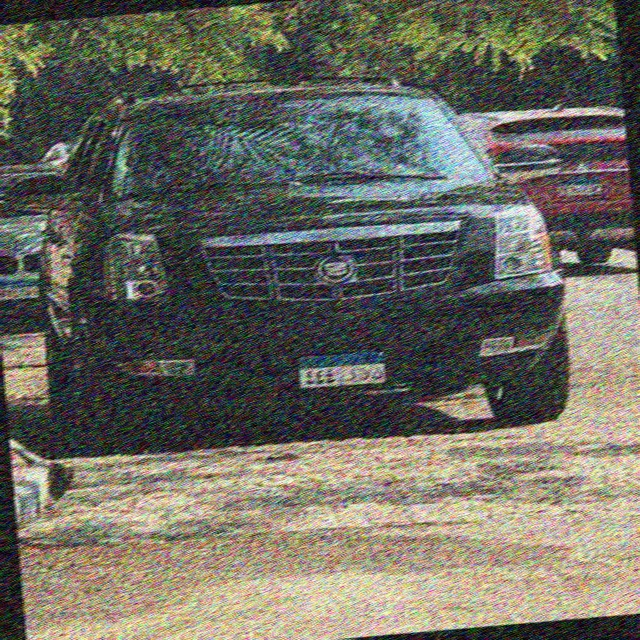License Plate: (295, 348, 388, 392)
